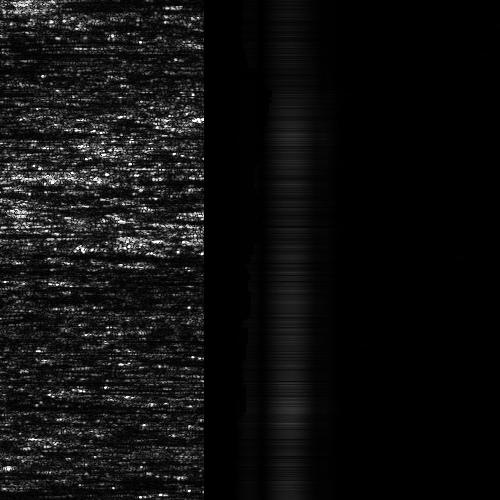rock: (7, 7, 60, 12)
shadow: (0, 49, 145, 58), (34, 7, 129, 12)
